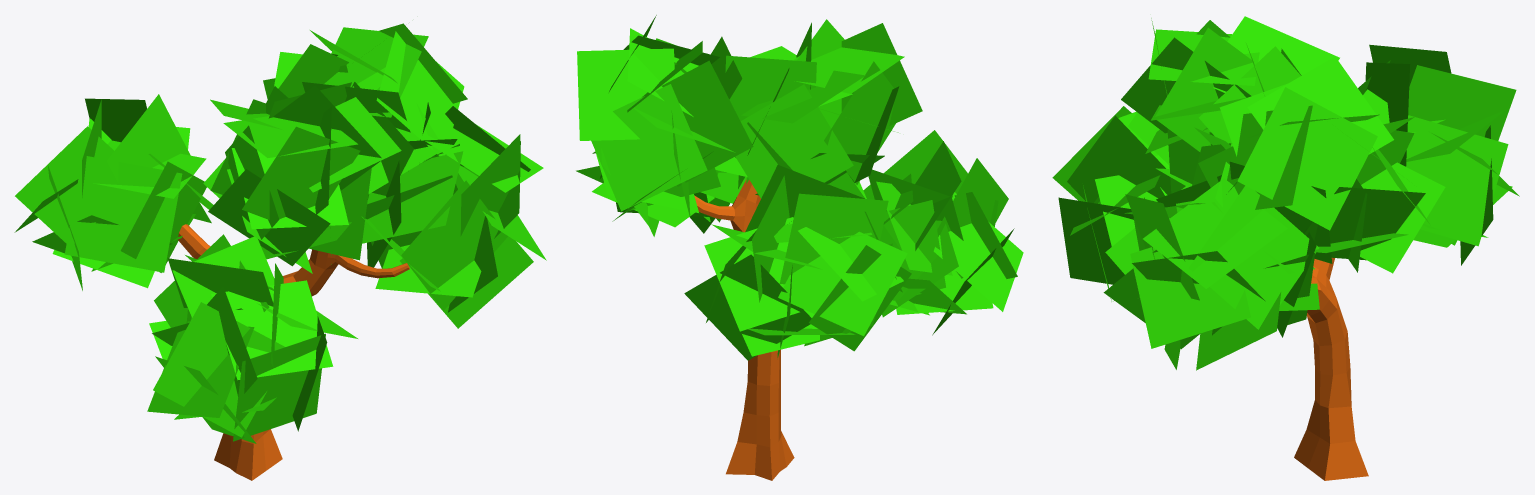
File: Tree.fbx
The picture shows the model from 3 angles, left to right: view 1: azimuth 30°, elevation 25°; view 2: azimuth 150°, elevation 25°; view 3: azimuth 270°, elevation 25°; orthographic projection. The views are drawn at different scales.
Visible parts, largest first — view 1: Cube; view 2: Cube; view 3: Cube.
Boxes of the visible parts, <box> form: Cube: <box>14,23,546,480</box>; Cube: <box>576,15,1023,480</box>; Cube: <box>1052,16,1519,480</box>.
Bounding box in the file's own units: 713 × 660 × 694.
